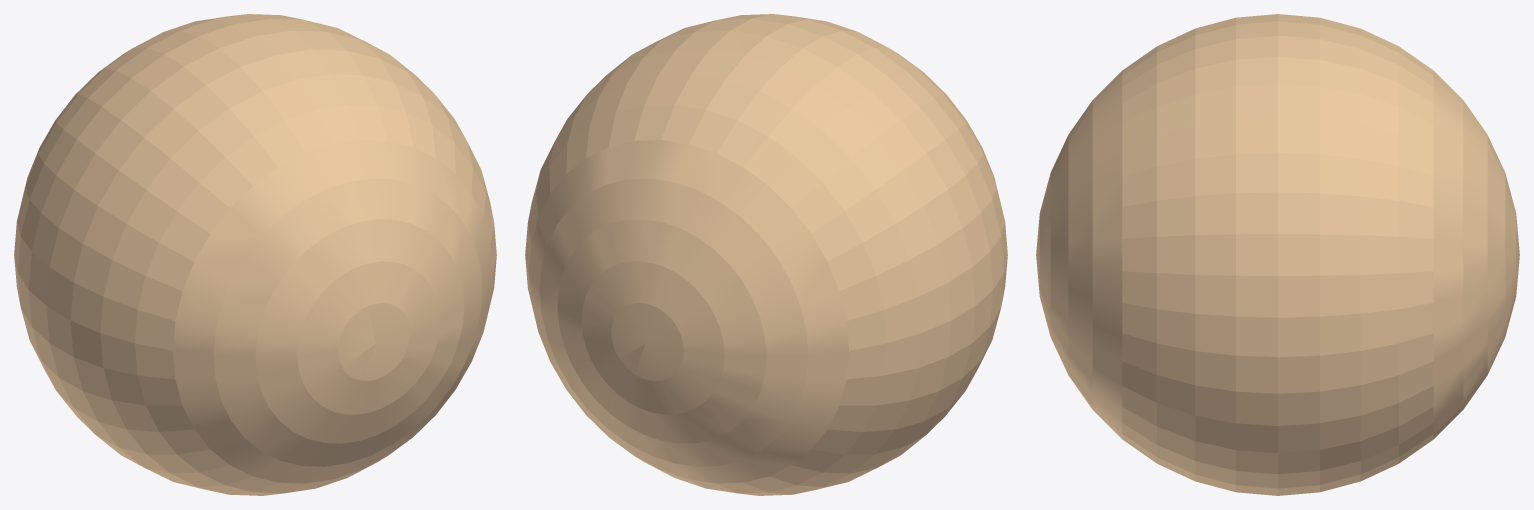
The model's file is giove.gltf.
The picture shows the model from 3 angles, left to right: view 1: azimuth 30°, elevation 25°; view 2: azimuth 150°, elevation 25°; view 3: azimuth 270°, elevation 25°; orthographic projection.
Visible parts, largest first — view 1: group_0_11884568; view 2: group_0_11884568; view 3: group_0_11884568.
Part boxes in pixels (x1,y1,x2,y2): group_0_11884568: (14,14,496,495); group_0_11884568: (525,14,1007,495); group_0_11884568: (1036,14,1519,495).
Size of the model in its own units: 0.23 by 0.23 by 0.23.
